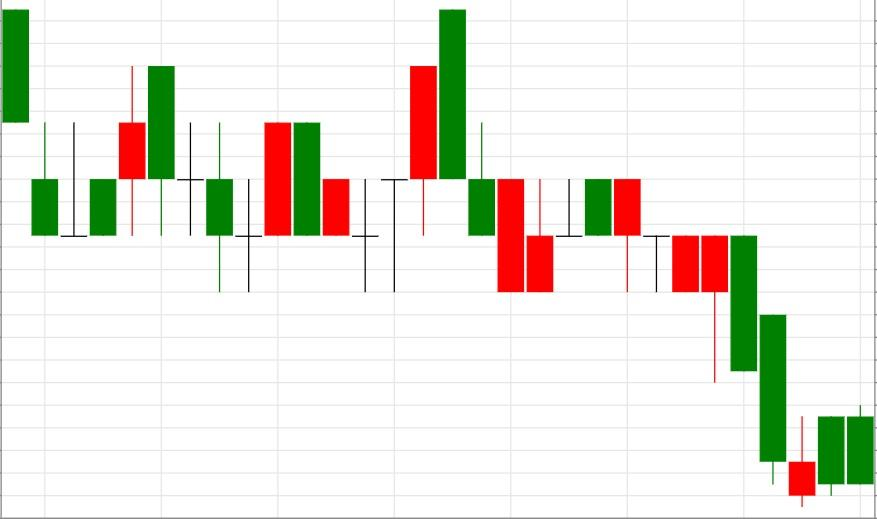bearish_engulfing_fall: (32, 65, 175, 238)
